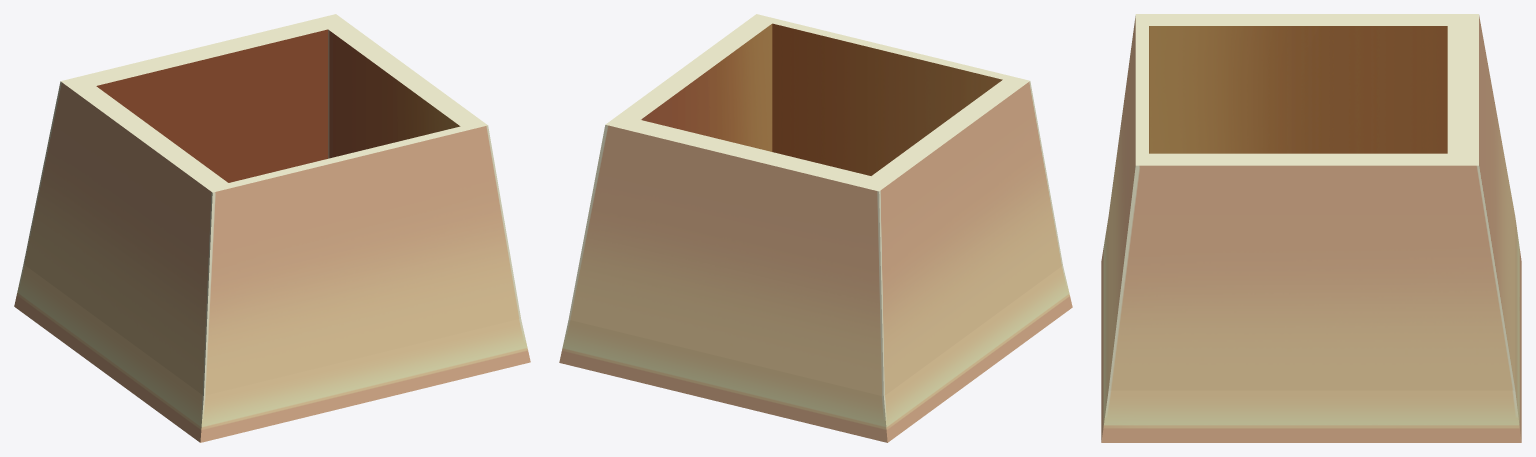
The model's file is endgoal_02.fbx.
3 views of the same model, side by side, from view 1: azimuth 30°, elevation 25°; view 2: azimuth 150°, elevation 25°; view 3: azimuth 270°, elevation 25° (orthographic). The views are drawn at different scales.
Parts seen in each view (by area): view 1: pCube13; view 2: pCube13; view 3: pCube13.
Part boxes in pixels (x1=…): pCube13: x1=14, y1=14, x2=530, y2=442; pCube13: x1=559, y1=14, x2=1072, y2=442; pCube13: x1=1101, y1=14, x2=1521, y2=442.
Bounding box in the file's own units: 262 × 176 × 256.
